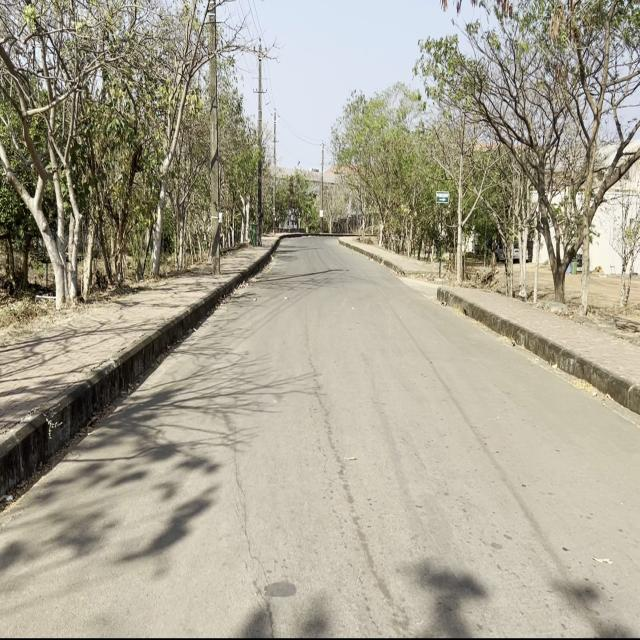Road: (3, 237, 637, 632)
